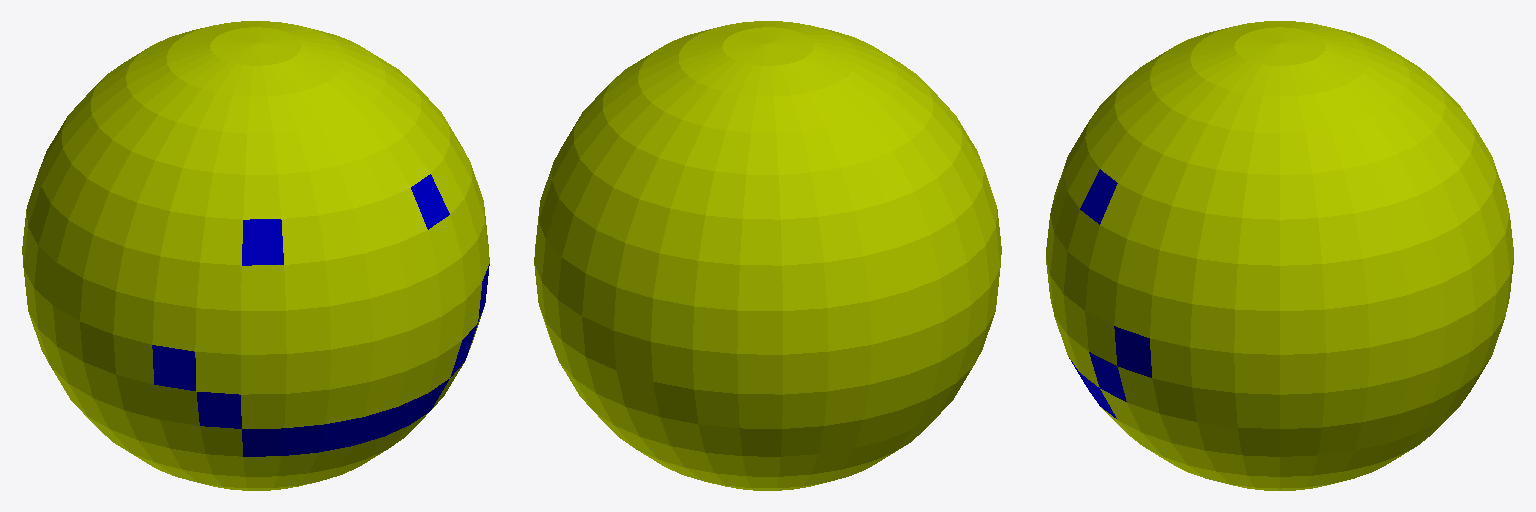
The model's file is smiley.obj.
3 renders of one model, left to right at view 1: azimuth 30°, elevation 25°; view 2: azimuth 150°, elevation 25°; view 3: azimuth 270°, elevation 25°, orthographic.
Visible parts, largest first — view 1: Sphere; view 2: Sphere; view 3: Sphere.
Boxes of the visible parts, x1,y1,x2,y2 form: Sphere: [22, 21, 489, 490]; Sphere: [534, 21, 1001, 490]; Sphere: [1046, 21, 1513, 490].
Bounding box in the file's own units: 1.98 × 1.98 × 1.98.